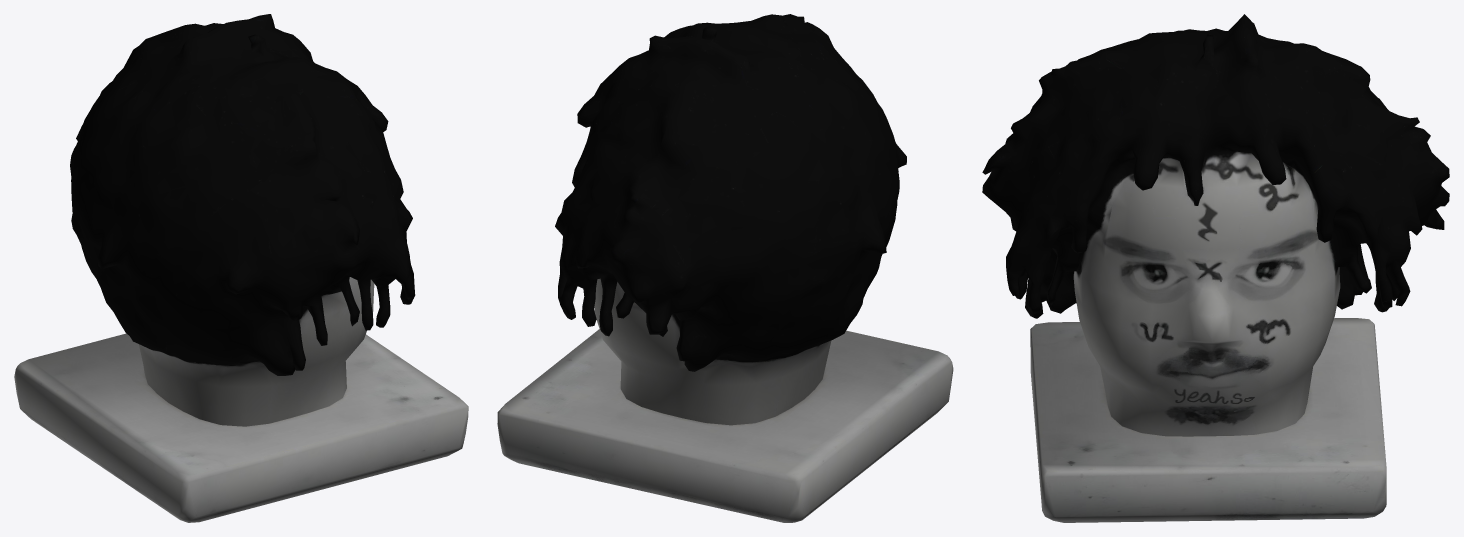
Rendered from statue-jlb3.glb.
The picture shows the model from 3 angles, left to right: view 1: azimuth 30°, elevation 25°; view 2: azimuth 150°, elevation 25°; view 3: azimuth 270°, elevation 25°; orthographic projection. The views are drawn at different scales.
Parts seen in each view (by area): view 1: vizcom_node_0; view 2: vizcom_node_0; view 3: vizcom_node_0.
Part boxes in pixels (<box>): vizcom_node_0: <box>14,14,468,522</box>; vizcom_node_0: <box>497,14,953,522</box>; vizcom_node_0: <box>982,14,1449,522</box>.
Size of the model in its own units: 0.3163 by 0.4 by 0.4007.
1 material, 1 textured.
